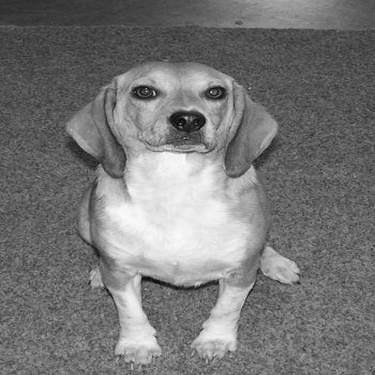dog: (57, 53, 306, 369)
